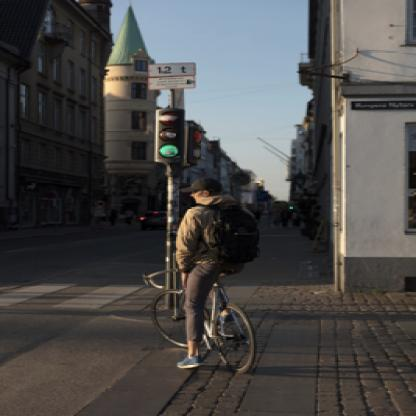Green Light: (151, 106, 192, 165)
